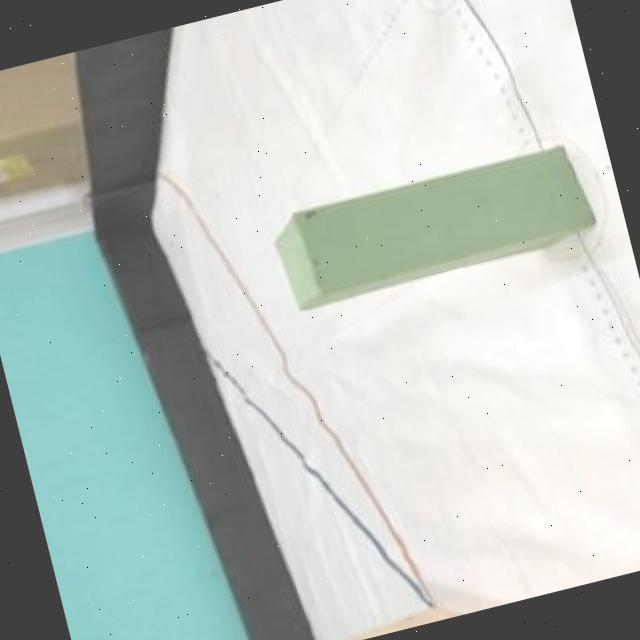greenbox: (264, 138, 602, 317)
